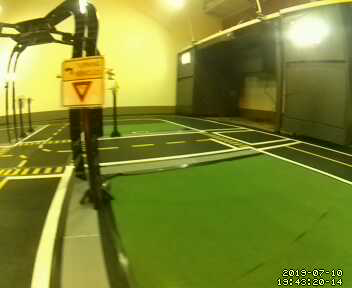Turn Yield: (61, 57, 103, 107)
